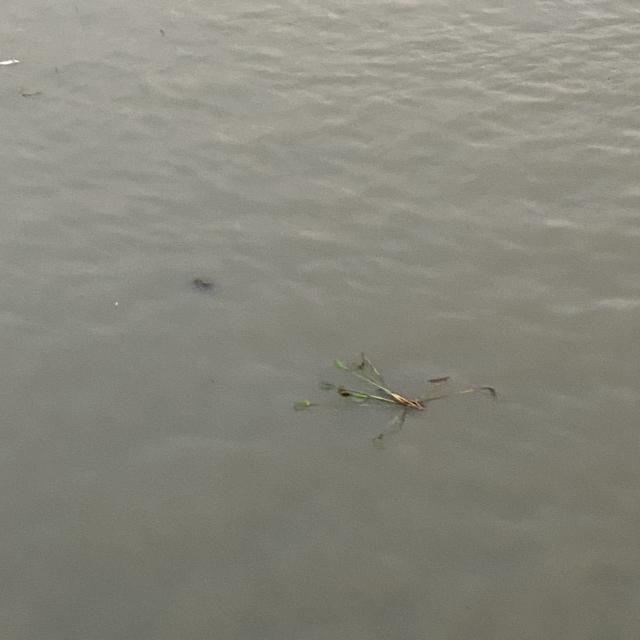Organic Debris: (264, 317, 516, 466), (188, 269, 222, 299)
Plastic: (107, 295, 130, 315), (1, 54, 18, 70)
